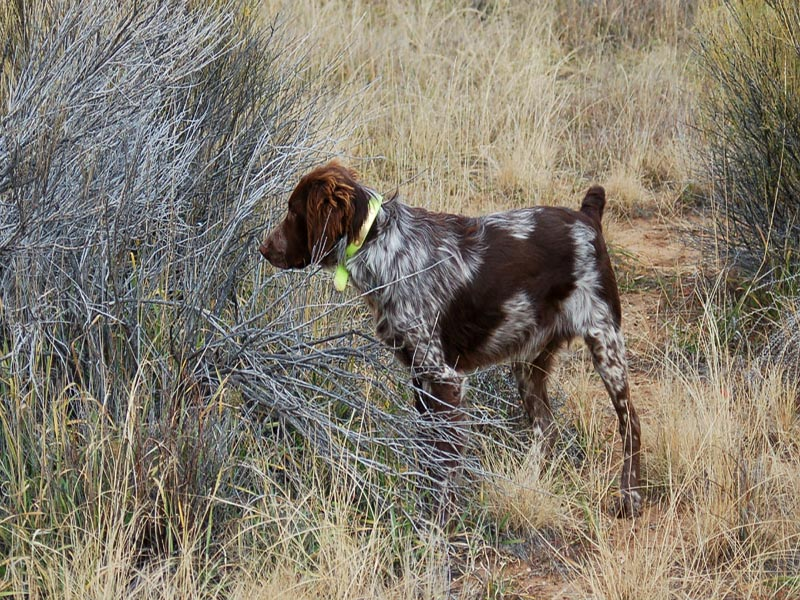cane da caccia: (259, 155, 674, 529)
